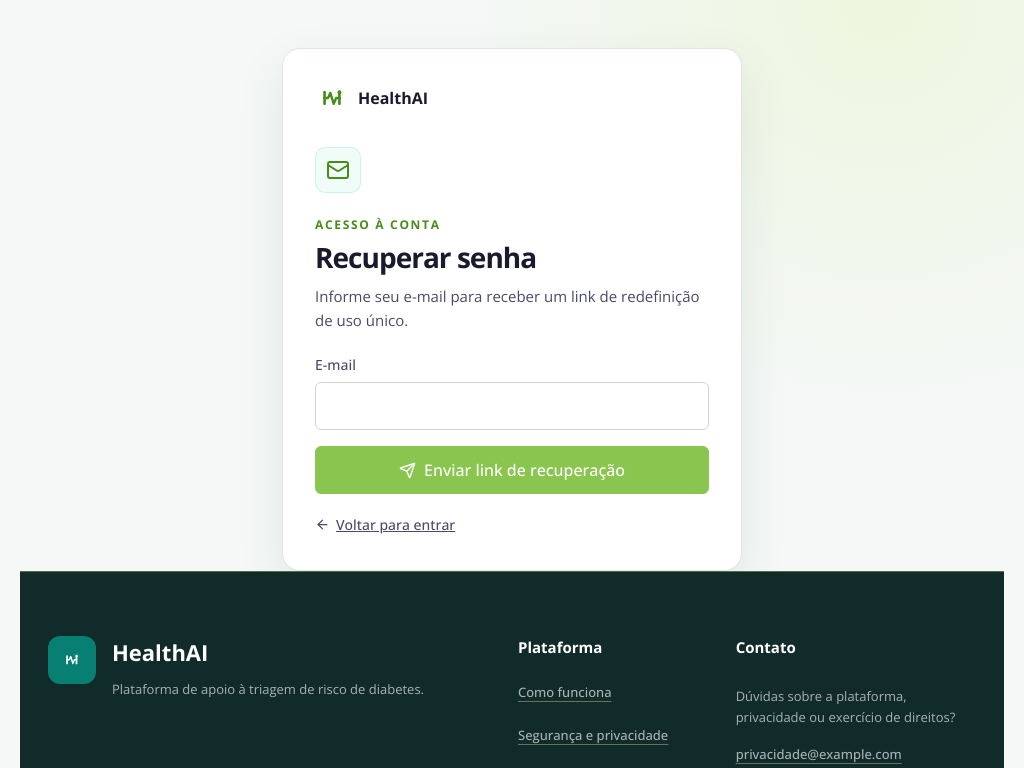
Test: recuperação de senha › solicita o link sem revelar se a conta existe
Type "medico@example.com" into the field labelled "E-mail".
click(512, 406); type("medico@example.com")  # box 315,382 -> 709,430
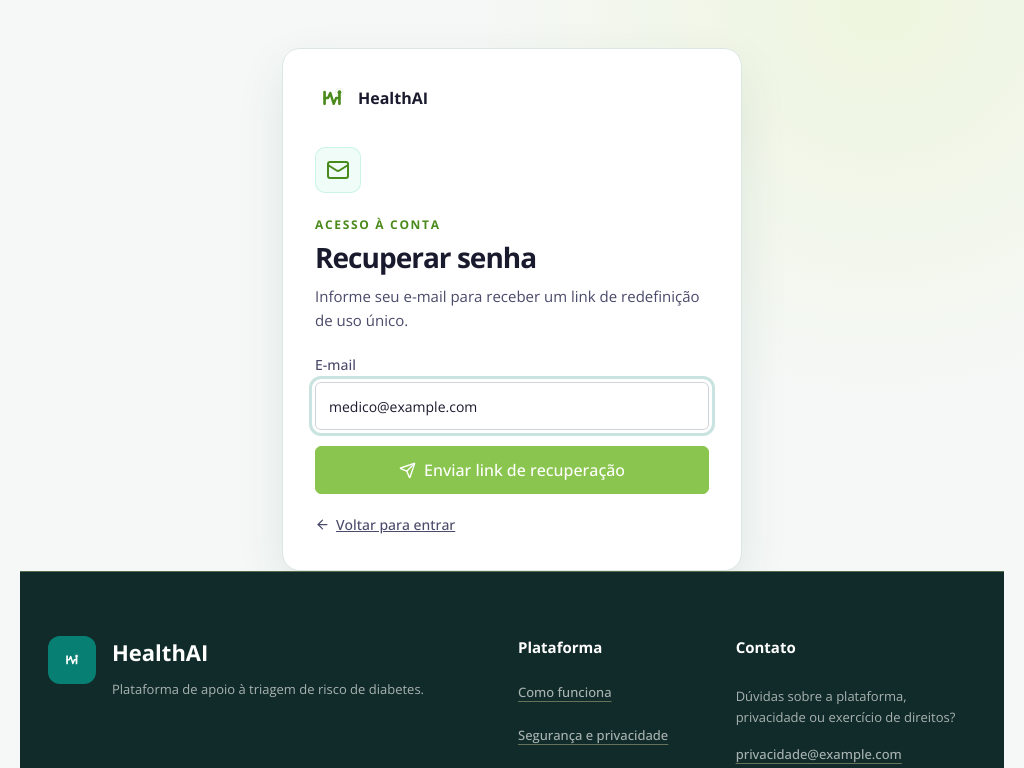
Click the button "Enviar link de recuperação".
click(512, 470)  # box 315,446 -> 709,494
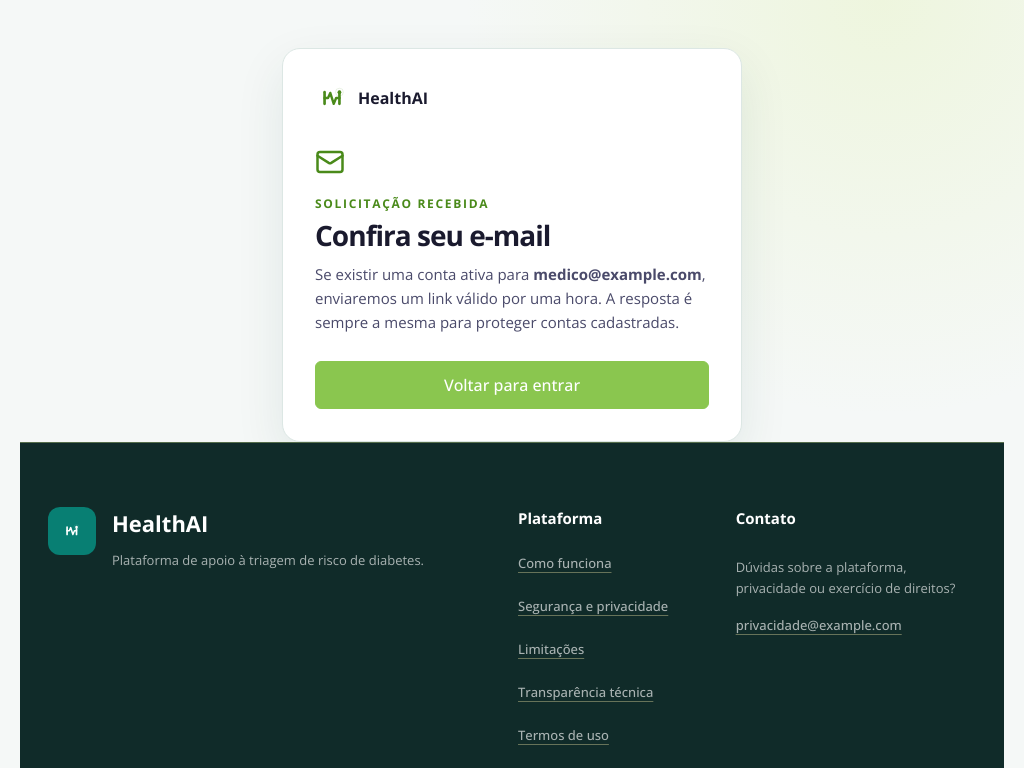
Now the heading "Confira seu e-mail" is shown, box 315,218 -> 550,253
Now the text "resposta é sempre a mesma" is shown, box 315,264 -> 706,332
